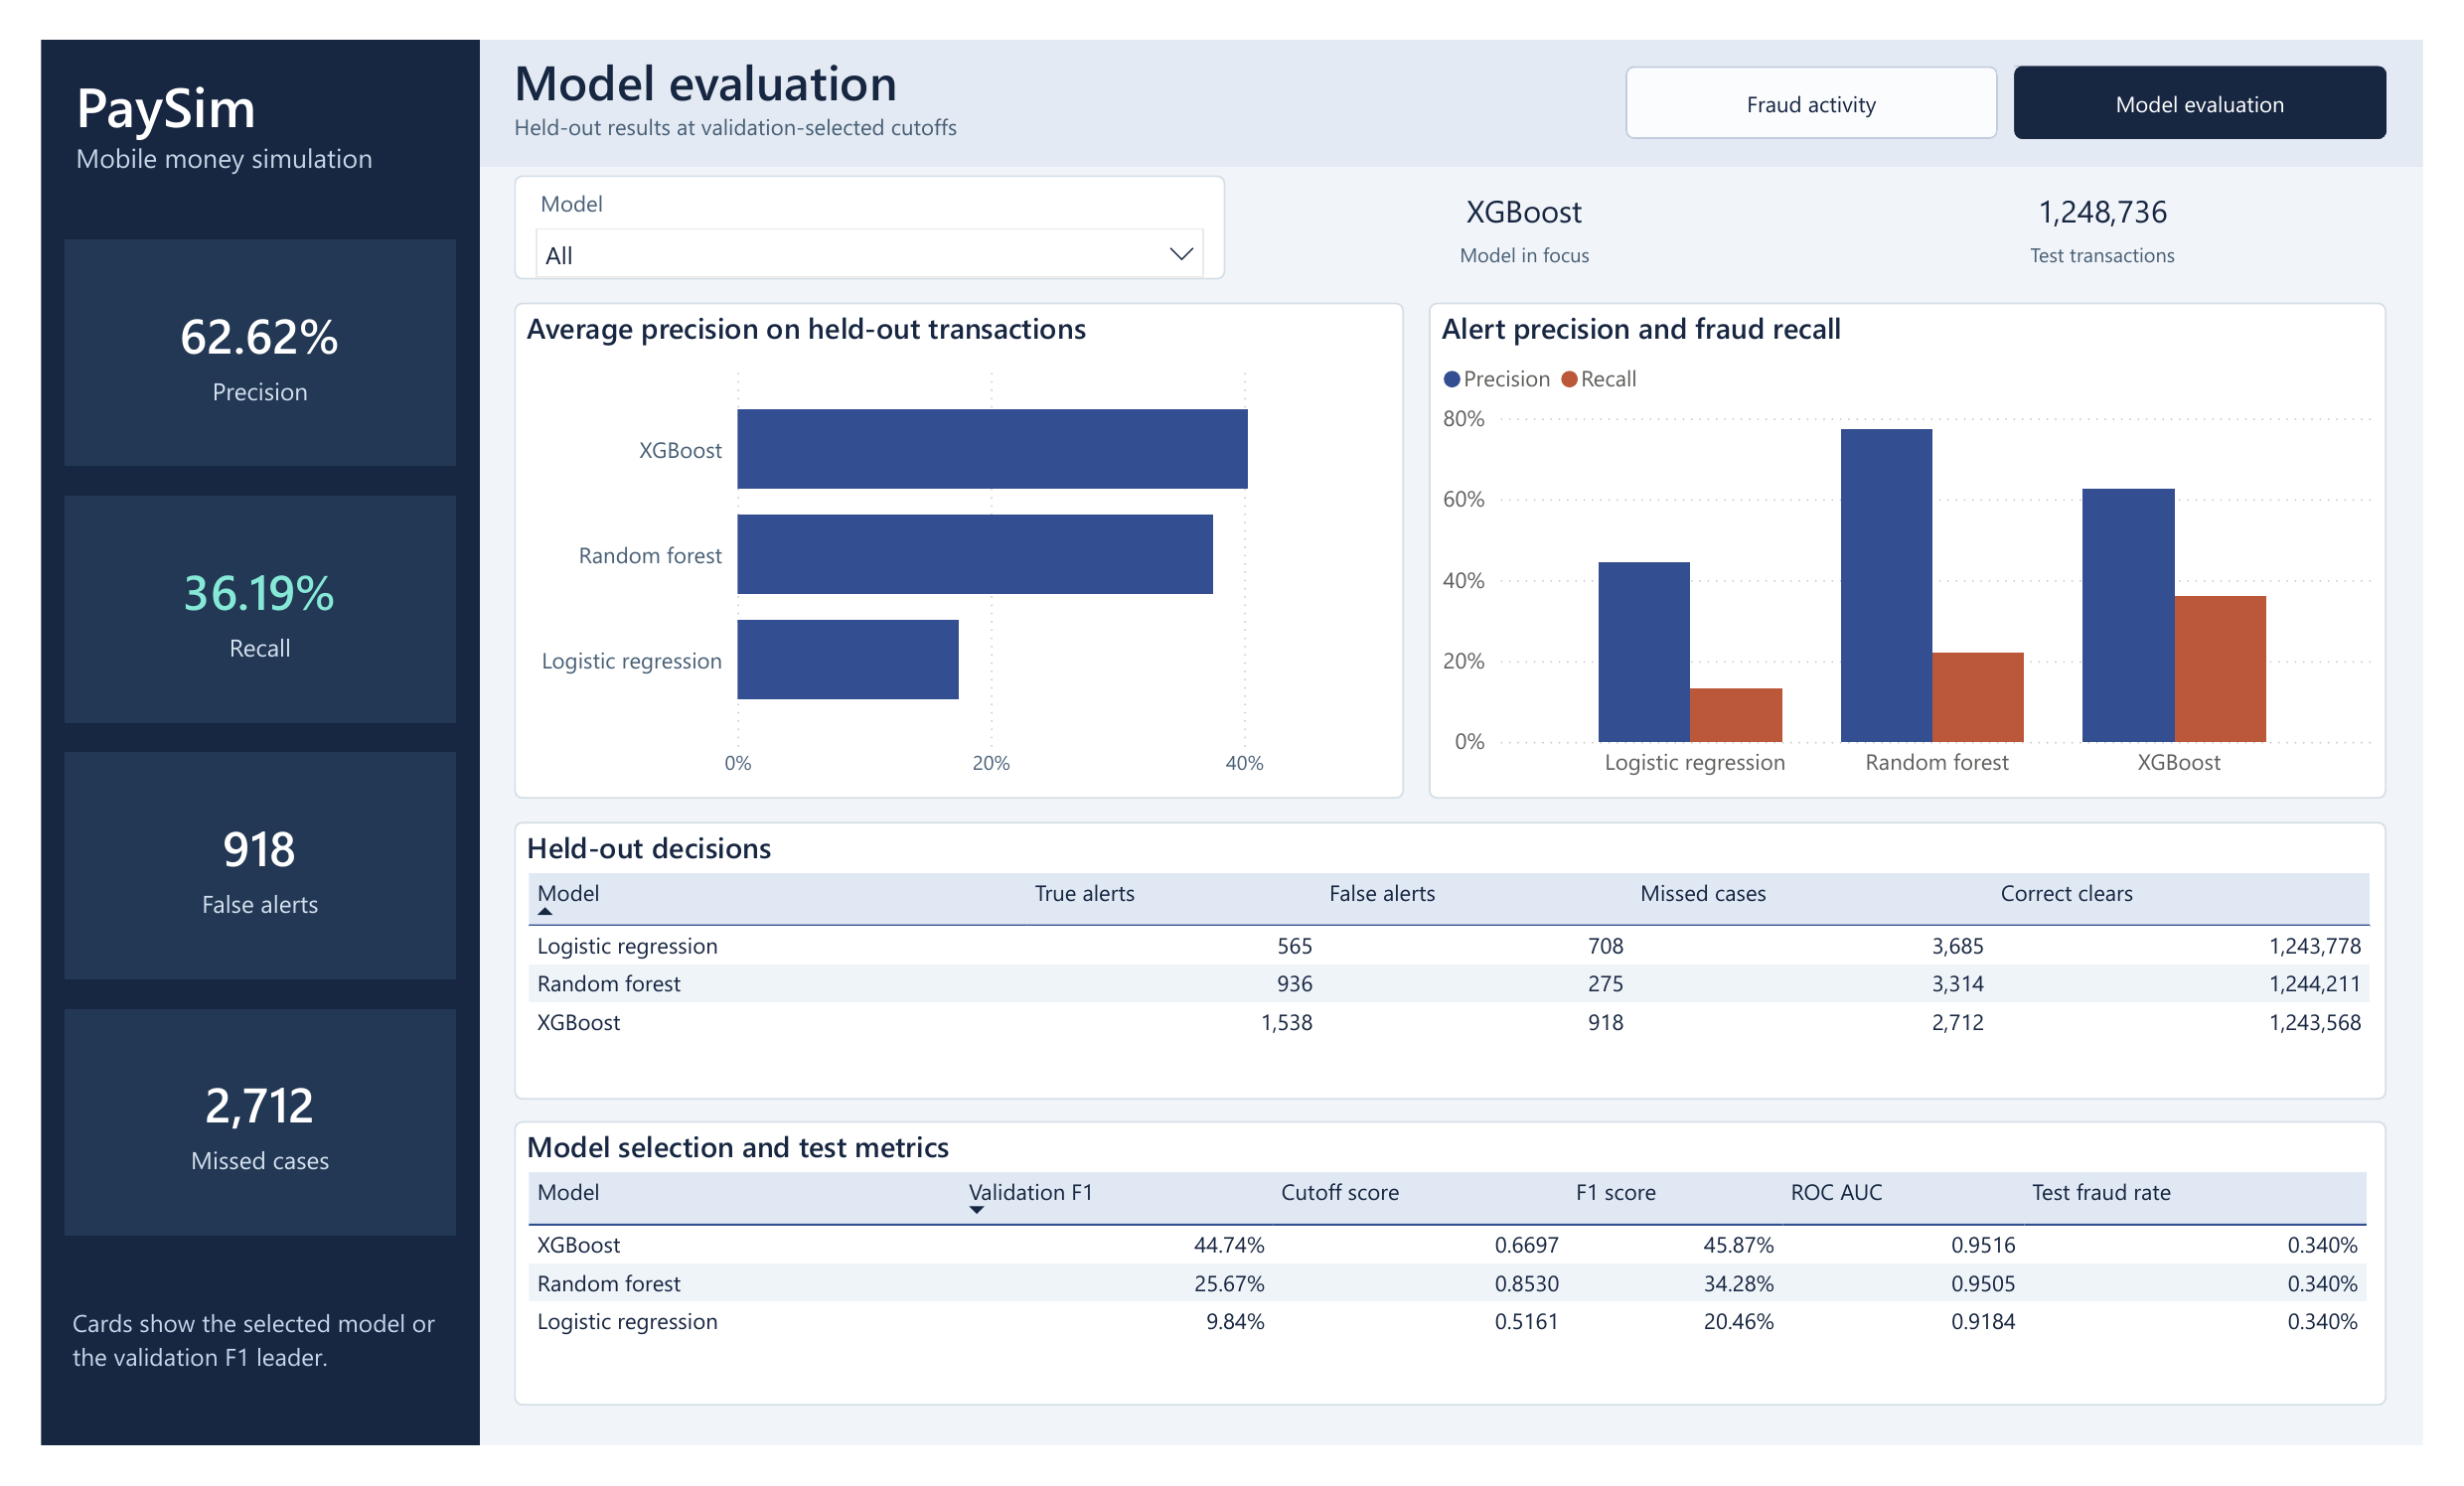

Layout of this report page (visuals, bound fields, positions):
{"tool":"powerbi","page":{"name":"Model evaluation","canvas":[1440,850],"ordinal":1},"visuals":[{"type":"textbox","box":[0,0,265,850],"z":0},{"type":"textbox","box":[16,12,239,102],"z":1},{"type":"textbox","box":[265,0,1175,77],"z":2},{"type":"textbox","box":[281,0,605,77],"z":3},{"type":"pageNavigator","box":[958,16,460,44],"z":4},{"type":"card","fields":{"Values":["Models.Precision"]},"box":[14,121,237,137],"z":5},{"type":"card","fields":{"Values":["Models.Recall"]},"box":[14,276,237,137],"z":6},{"type":"card","fields":{"Values":["Models.False alerts"]},"box":[14,431,237,137],"z":7},{"type":"card","fields":{"Values":["Models.Missed cases"]},"box":[14,586,237,137],"z":8},{"type":"textbox","box":[14,761,239,76],"z":9},{"type":"slicer","fields":{"Values":["Models.Model"]},"box":[286,82,430,63],"z":10},{"type":"card","fields":{"Values":["Models.Model in focus"]},"box":[731,82,332,63],"z":11},{"type":"card","fields":{"Values":["Models.Test transactions"]},"box":[1075,82,343,63],"z":12},{"type":"clusteredBarChart","title":"Average precision on held-out transactions","fields":{"Category":["Models.Model"],"Y":["Models.Avg precision"]},"box":[286,159,538,300],"z":13},{"type":"clusteredColumnChart","title":"Alert precision and fraud recall","fields":{"Category":["Models.Model"],"Y":["Models.Precision","Models.Recall"]},"box":[839,159,579,300],"z":14},{"type":"tableEx","title":"Held-out decisions","fields":{"Values":["Models.Model","Models.True alerts","Models.False alerts","Models.Missed cases","Models.Correct clears"]},"box":[286,473,1132,168],"z":15},{"type":"tableEx","title":"Model selection and test metrics","fields":{"Values":["Models.Model","Models.Validation F1","Models.Cutoff score","Models.F1 score","Models.ROC AUC","Models.Test fraud rate"]},"box":[286,654,1132,172],"z":16}]}

Visuals, with their boxes in screenshot pixels (x1, y1, x2, y2), scaled from the page's 1440x850 canvas onto the 2464x1486 screenshot:
textbox: box=[0, 0, 453, 1485]
textbox: box=[28, 21, 436, 200]
textbox: box=[453, 0, 2463, 135]
textbox: box=[481, 0, 1516, 135]
pageNavigator: box=[1639, 28, 2426, 105]
card - Models.Precision: box=[24, 212, 429, 451]
card - Models.Recall: box=[24, 483, 429, 722]
card - Models.False alerts: box=[24, 754, 429, 993]
card - Models.Missed cases: box=[24, 1024, 429, 1263]
textbox: box=[24, 1330, 433, 1463]
slicer - Models.Model: box=[490, 143, 1225, 253]
card - Models.Model in focus: box=[1251, 143, 1819, 253]
card - Models.Test transactions: box=[1839, 143, 2426, 253]
"Average precision on held-out transactions" clusteredBarChart: box=[490, 278, 1410, 803]
"Alert precision and fraud recall" clusteredColumnChart: box=[1436, 278, 2426, 803]
"Held-out decisions" tableEx: box=[490, 826, 2426, 1120]
"Model selection and test metrics" tableEx: box=[490, 1143, 2426, 1444]
